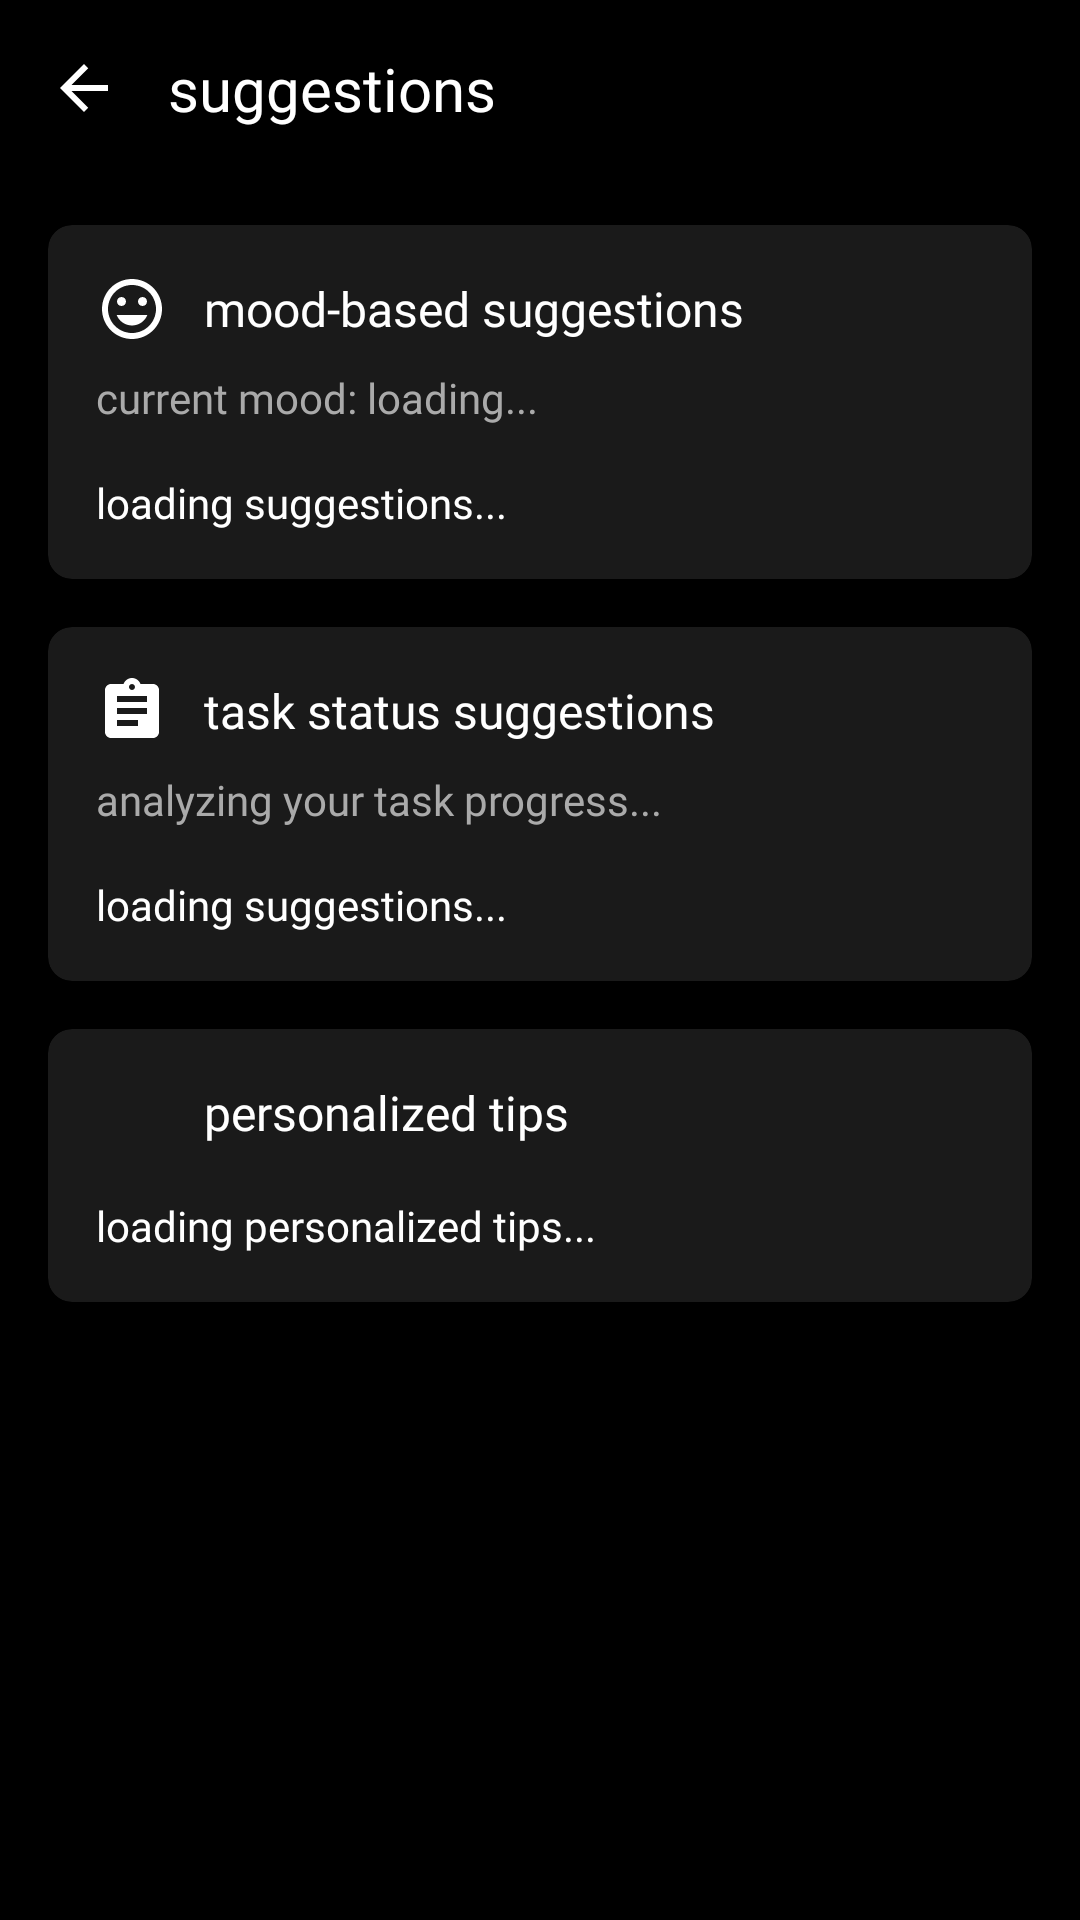

Locate icon controls on the screen. Image size 1080px×1920px, boxes as bbox(x1, y1, x2, y2).
Back: bbox(60, 64, 108, 112)
